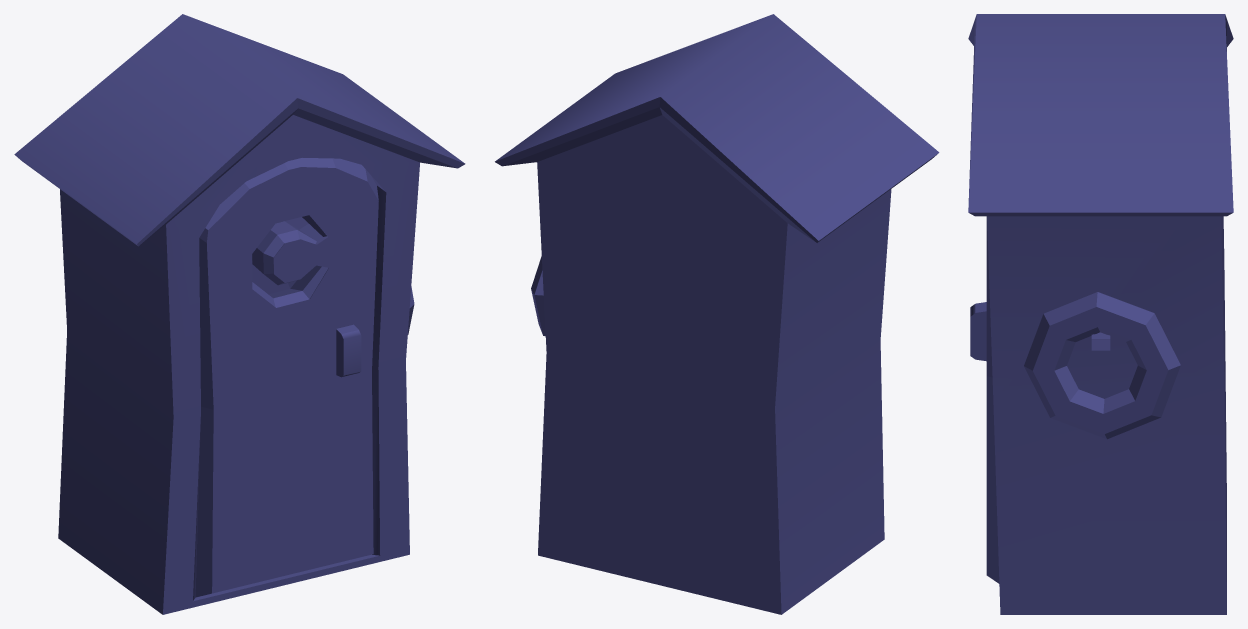
Rendered from potapottyFBX.fbx.
The picture shows the model from 3 angles, left to right: view 1: azimuth 30°, elevation 25°; view 2: azimuth 150°, elevation 25°; view 3: azimuth 270°, elevation 25°; orthographic projection. The views are drawn at different scales.
Parts seen in each view (by area): view 1: portapotty; view 2: portapotty; view 3: portapotty.
Boxes of the visible parts, x1=… form: portapotty: x1=14, y1=14, x2=465, y2=614; portapotty: x1=495, y1=14, x2=939, y2=614; portapotty: x1=968, y1=14, x2=1233, y2=614.
Size of the model in its own units: 2.04 by 2.94 by 1.32.
